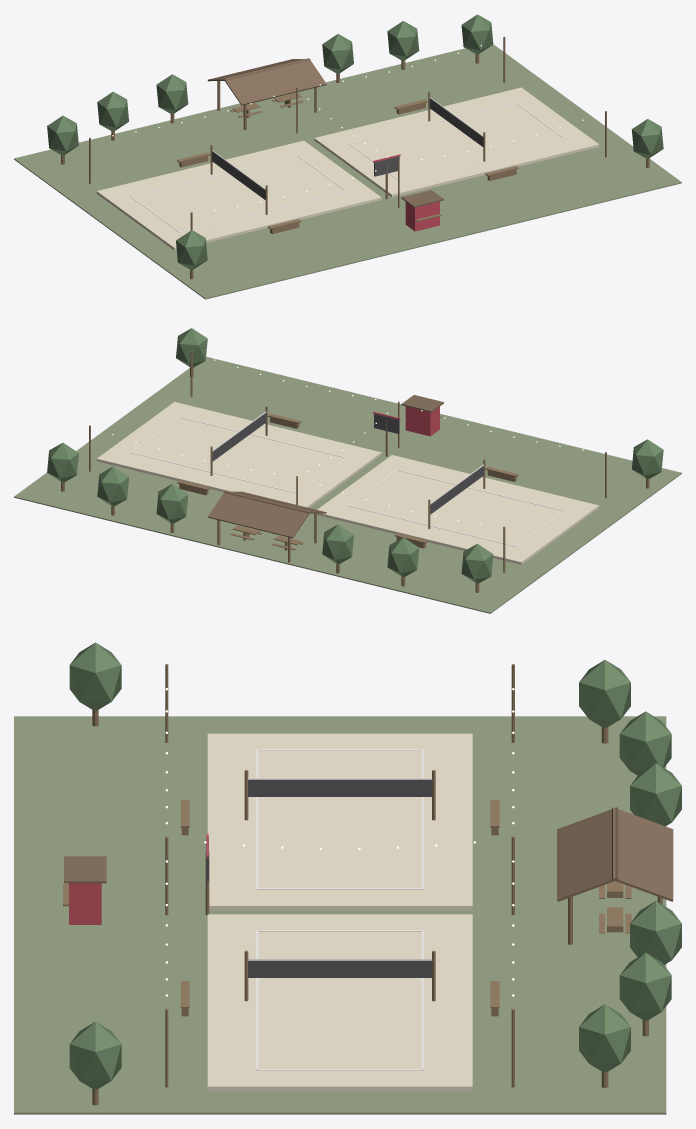
Rendered from courts.glb.
The picture shows the model from 3 angles, top to bottom: view 1: azimuth 30°, elevation 25°; view 2: azimuth 150°, elevation 25°; view 3: azimuth 270°, elevation 25°; orthographic projection. The views are drawn at different scales.
Visible parts, largest first — view 1: Ground, Court1_Sand, Court2_Sand, Pavilion_RoofA, Tree0_Crown, Tree6_Crown, Tree7_Crown, Tree4_Crown, Tree5_Crown, Tree2_Crown, Tree1_Crown, Tree3_Crown (+5 smaller); view 2: Ground, Court1_Sand, Court2_Sand, Pavilion_RoofB, Tree3_Crown, Tree6_Crown, Tree4_Crown, Tree0_Crown, Tree2_Crown, Tree7_Crown, Tree1_Crown, Tree5_Crown (+5 smaller); view 3: Ground, Court2_Sand, Court1_Sand, Pavilion_RoofB, Pavilion_RoofA, Court1_Net, Court2_Net, Tree4_Crown, Tree2_Crown, Tree5_Crown, Tree3_Crown, Tree0_Crown (+5 smaller).
Boxes of the visible parts, x1,y1,x2,y2 form: Ground: (14, 44, 681, 299); Court1_Sand: (96, 140, 381, 250); Court2_Sand: (314, 87, 599, 197); Pavilion_RoofA: (224, 58, 326, 105); Tree0_Crown: (47, 115, 78, 155); Tree6_Crown: (156, 74, 188, 114); Tree7_Crown: (322, 34, 353, 73); Tree4_Crown: (176, 230, 207, 269); Tree5_Crown: (631, 119, 663, 158); Tree2_Crown: (387, 21, 419, 60); Tree1_Crown: (97, 91, 128, 131); Tree3_Crown: (461, 14, 493, 54); Ground: (14, 356, 681, 613); Court1_Sand: (317, 455, 599, 564); Court2_Sand: (96, 402, 381, 507); Pavilion_RoofB: (207, 490, 310, 538); Tree3_Crown: (47, 443, 78, 482); Tree6_Crown: (322, 524, 353, 564); Tree4_Crown: (631, 439, 663, 479); Tree0_Crown: (461, 543, 493, 583); Tree2_Crown: (97, 466, 128, 506); Tree7_Crown: (156, 484, 188, 523); Tree1_Crown: (387, 537, 419, 576); Tree5_Crown: (176, 328, 207, 367); Ground: (14, 716, 666, 1114); Court2_Sand: (207, 914, 472, 1091); Court1_Sand: (207, 733, 472, 910); Pavilion_RoofB: (612, 807, 673, 901); Pavilion_RoofA: (557, 807, 618, 901); Court1_Net: (248, 780, 431, 796); Court2_Net: (248, 961, 431, 977); Tree4_Crown: (69, 642, 121, 710); Tree2_Crown: (619, 952, 671, 1020); Tree5_Crown: (69, 1021, 121, 1089); Tree3_Crown: (579, 1004, 630, 1072); Tree0_Crown: (579, 660, 630, 727).
Size of the model in its own units: 46.68 by 4.57 by 32.78.
